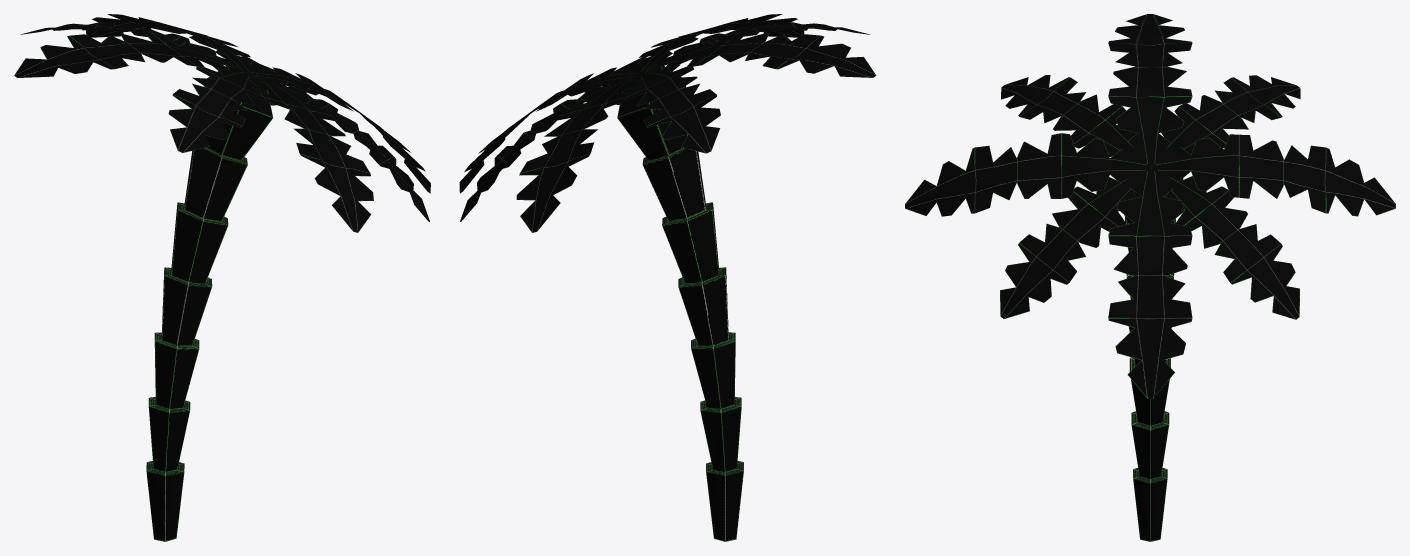
Rendered from NewPalm.FBX.
3 views of the same model, side by side, from view 1: azimuth 30°, elevation 25°; view 2: azimuth 150°, elevation 25°; view 3: azimuth 270°, elevation 25° (orthographic). The views are drawn at different scales.
Parts seen in each view (by area): view 1: Base; view 2: Base; view 3: Base.
Boxes of the visible parts, <box> form: Base: <box>14,14,430,541</box>; Base: <box>459,14,876,541</box>; Base: <box>905,14,1395,541</box>.
Size of the model in its own units: 103 by 120 by 116.
